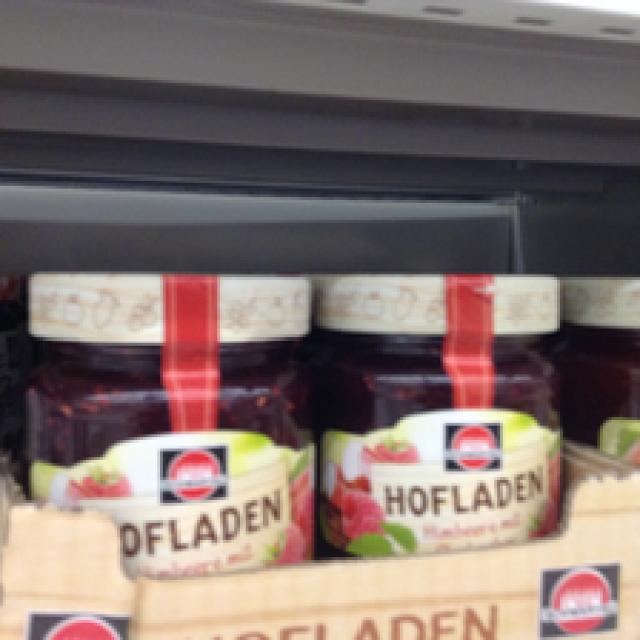groceries: (17, 266, 317, 574), (314, 272, 563, 557)
